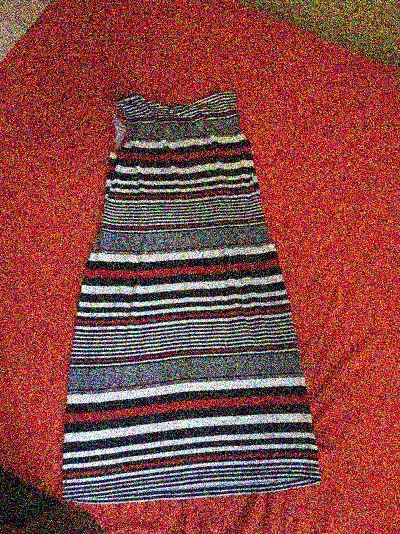Dress: (31, 63, 326, 512)
